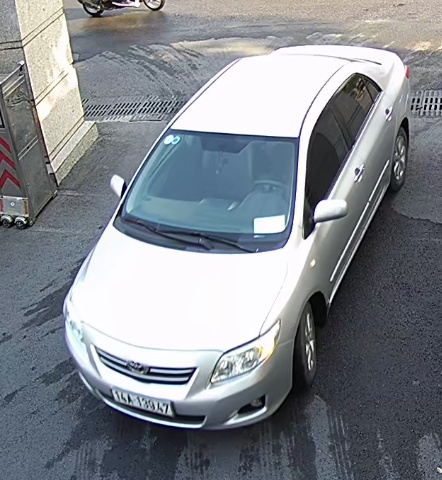vehicle plate: (108, 376, 180, 422)
